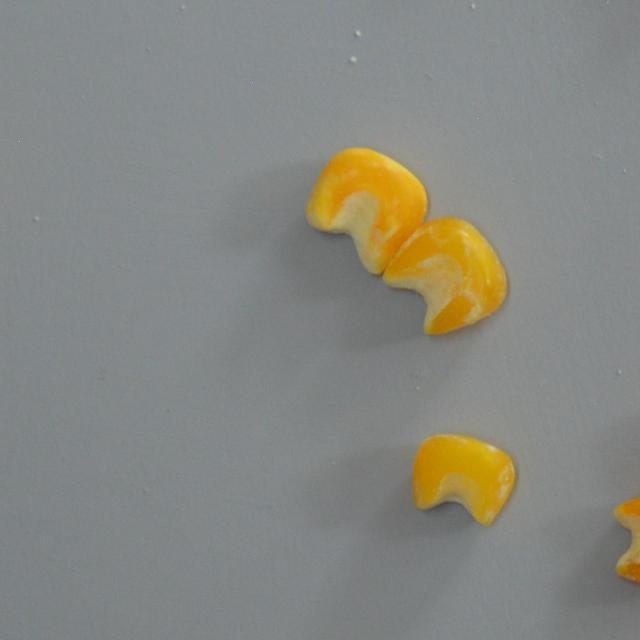no_canjicado: (306, 148, 426, 275)
pelicula: (381, 218, 508, 335), (412, 432, 517, 525), (612, 488, 640, 588)
